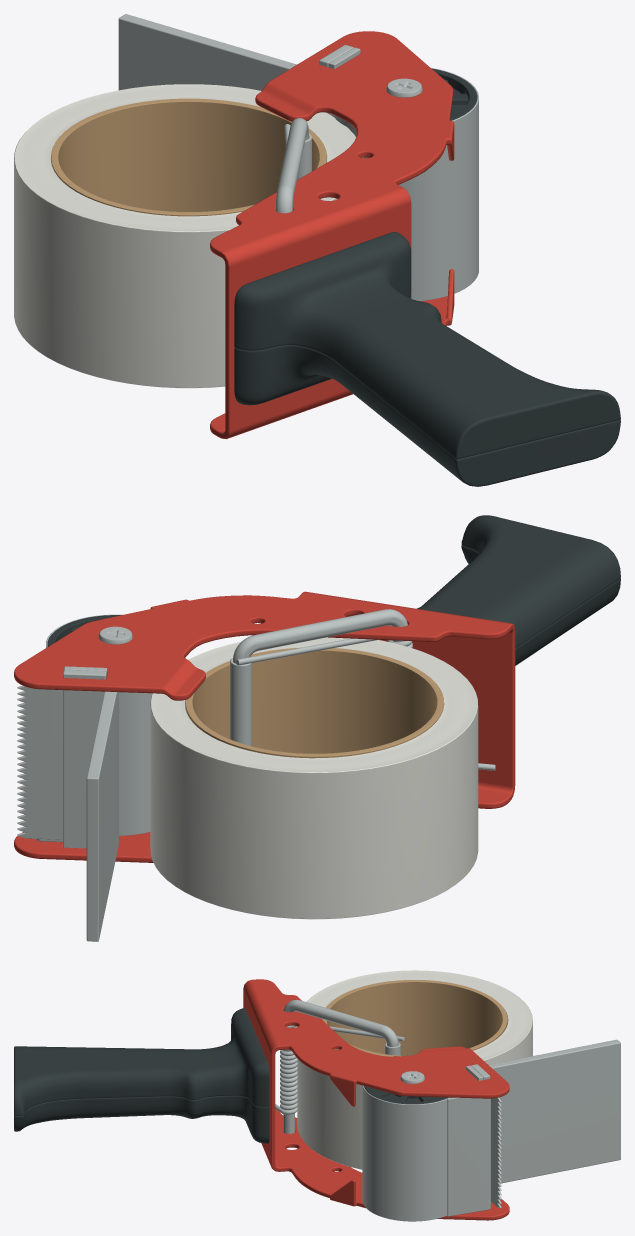
File: tape_dispenser_a03.glb
3 views of the same model, one above another, from view 1: azimuth 30°, elevation 25°; view 2: azimuth 150°, elevation 25°; view 3: azimuth 270°, elevation 25° (orthographic). The views are drawn at different scales.
Size of the model in its own units: 0.1417 by 0.0671 by 0.2573.
